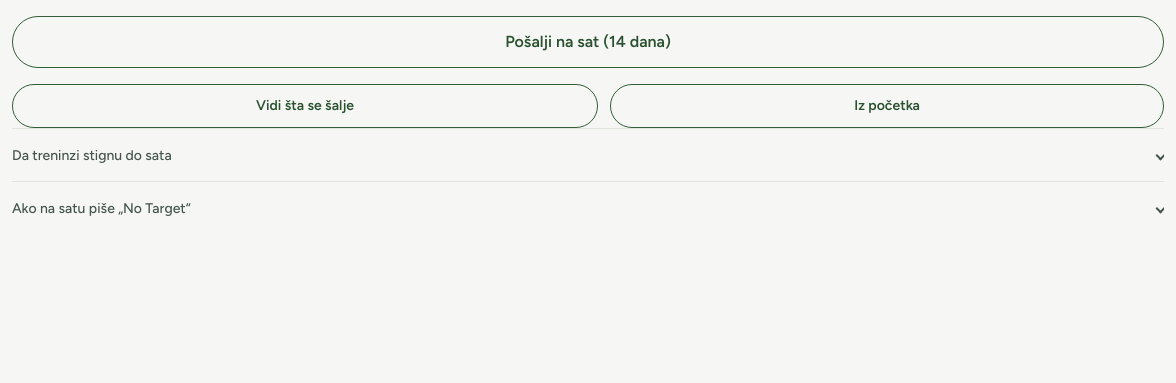
Scenario: slanje na sat: preskočeni dani sa razlogom › bez razloga (ostali generatori): stara poruka
Click the button with id "icu-vidi". click: (305,106)
box: [12, 84, 598, 128]
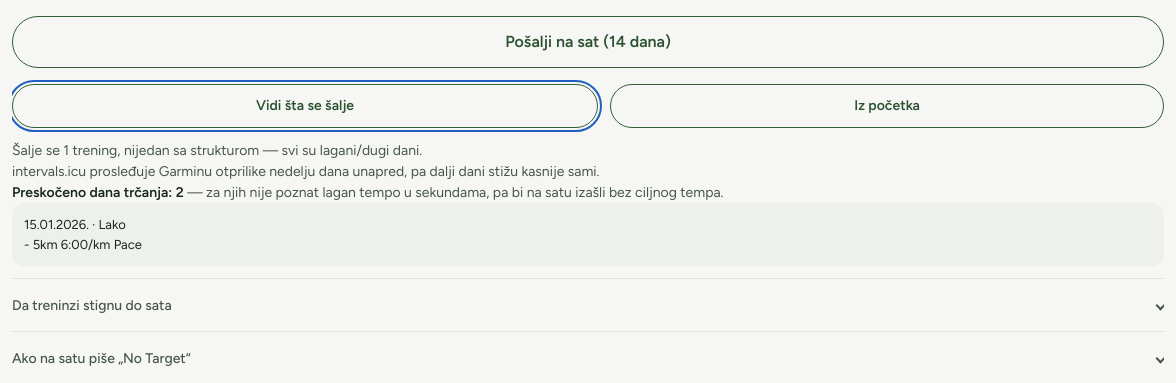
Check: the text "za njih nije poznat lagan" is shown, box [184, 184, 724, 201]
